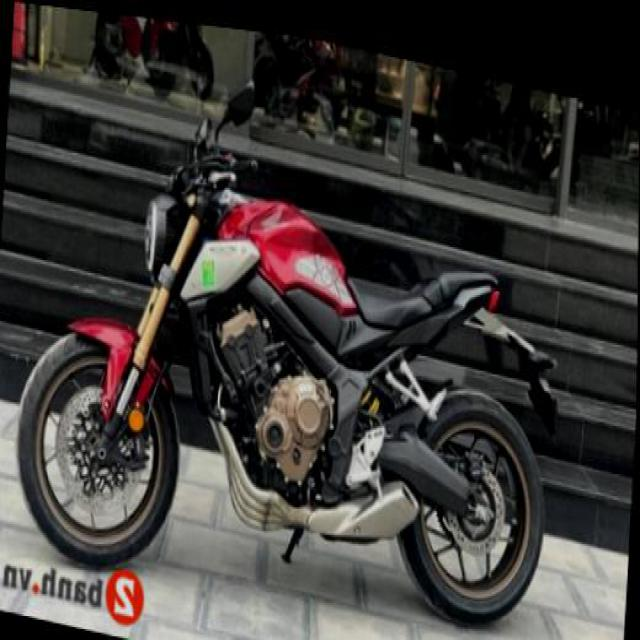CB650R: (8, 114, 570, 638)
